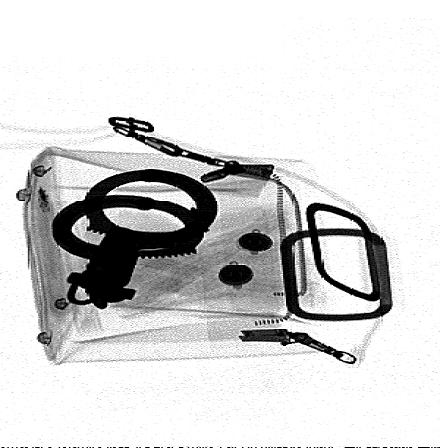HandCuffs: (51, 169, 218, 310)
